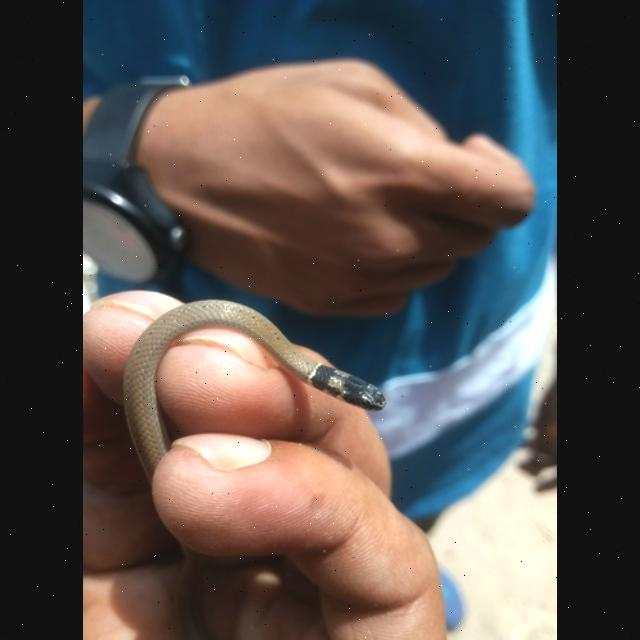snake: (93, 278, 393, 504)
